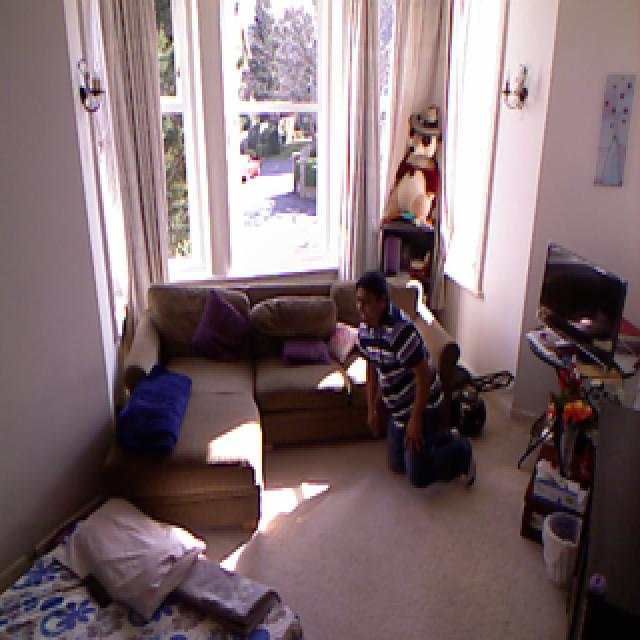crawling: (354, 258, 478, 510)
